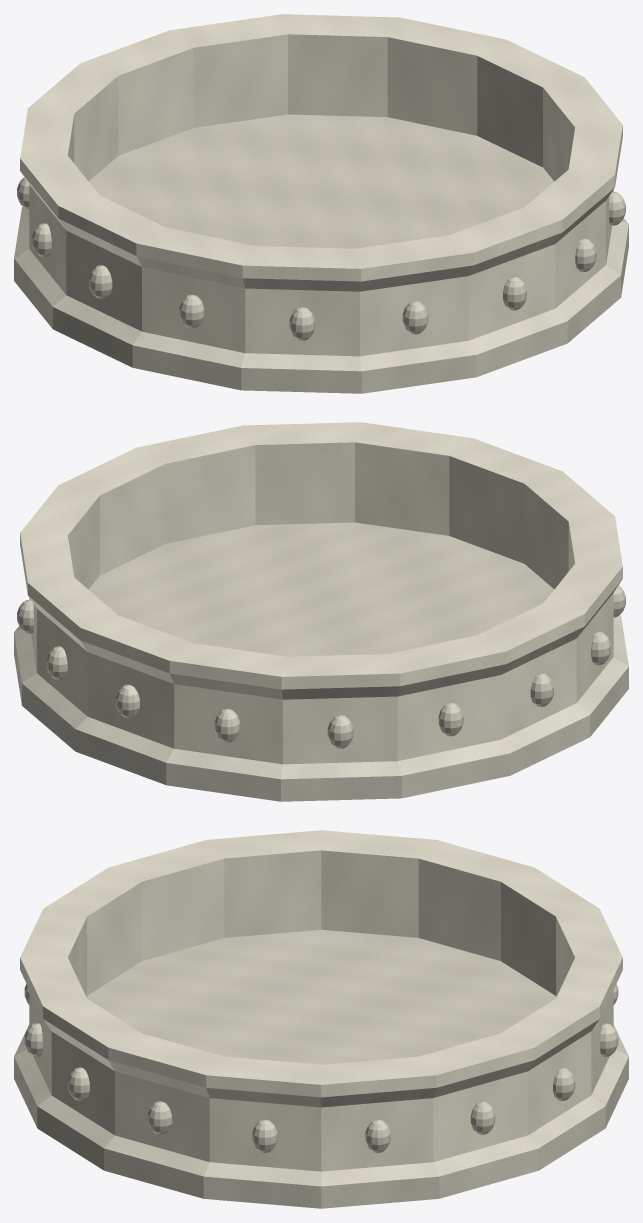
Rendered from fountain_basin_01.glb.
3 views of the same model, one above another, from view 1: azimuth 30°, elevation 25°; view 2: azimuth 150°, elevation 25°; view 3: azimuth 270°, elevation 25° (orthographic).
Visible parts, largest first — view 1: fountain_basin_01__carved_basin; view 2: fountain_basin_01__carved_basin; view 3: fountain_basin_01__carved_basin.
Boxes of the visible parts, x1,y1,x2,y2 form: fountain_basin_01__carved_basin: [14, 14, 628, 393]; fountain_basin_01__carved_basin: [14, 422, 628, 801]; fountain_basin_01__carved_basin: [14, 830, 628, 1208].
Bounding box in the file's own units: 4 × 0.87 × 4.
Materials: 2 (2 with a texture image).
